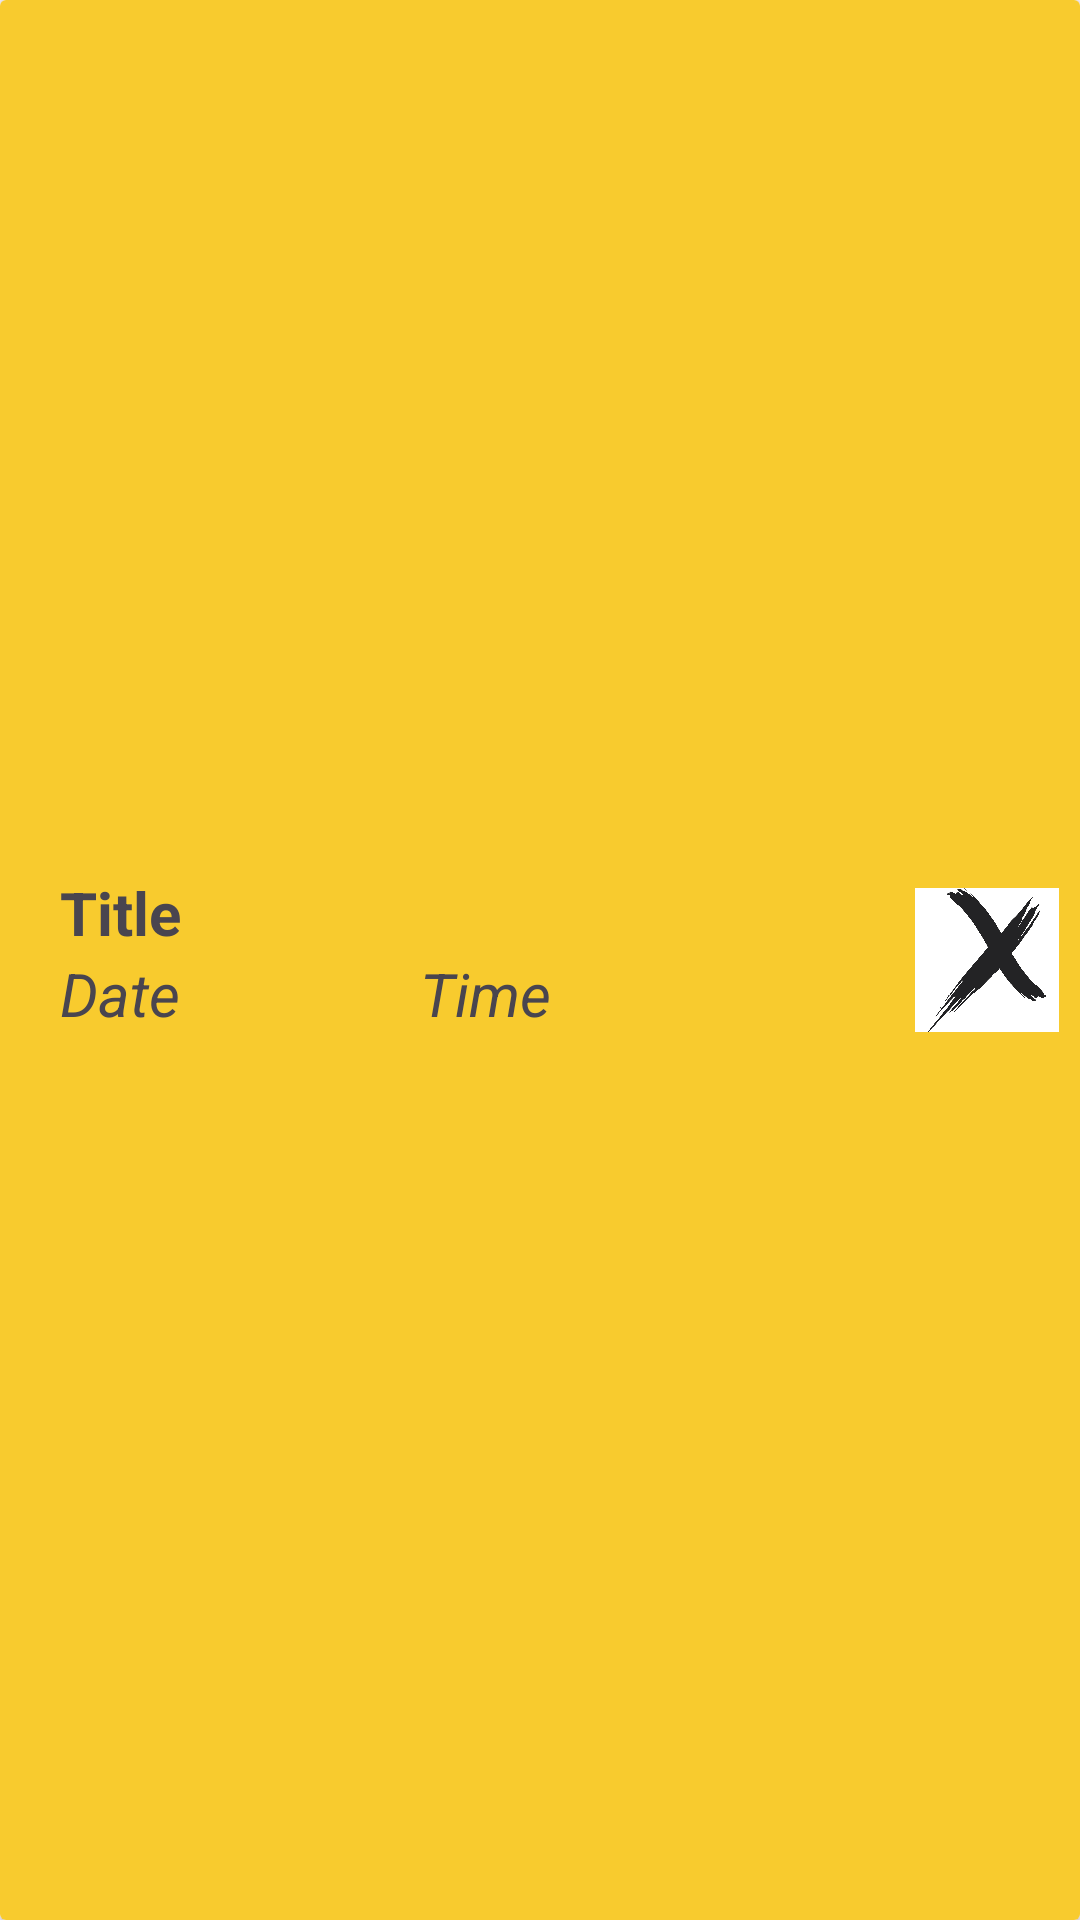

Locate icon controls on the screen. Image size 1080w x 1920h, boxes as [x1, y1, x2, y2].
cross: [915, 888, 1059, 1032]
